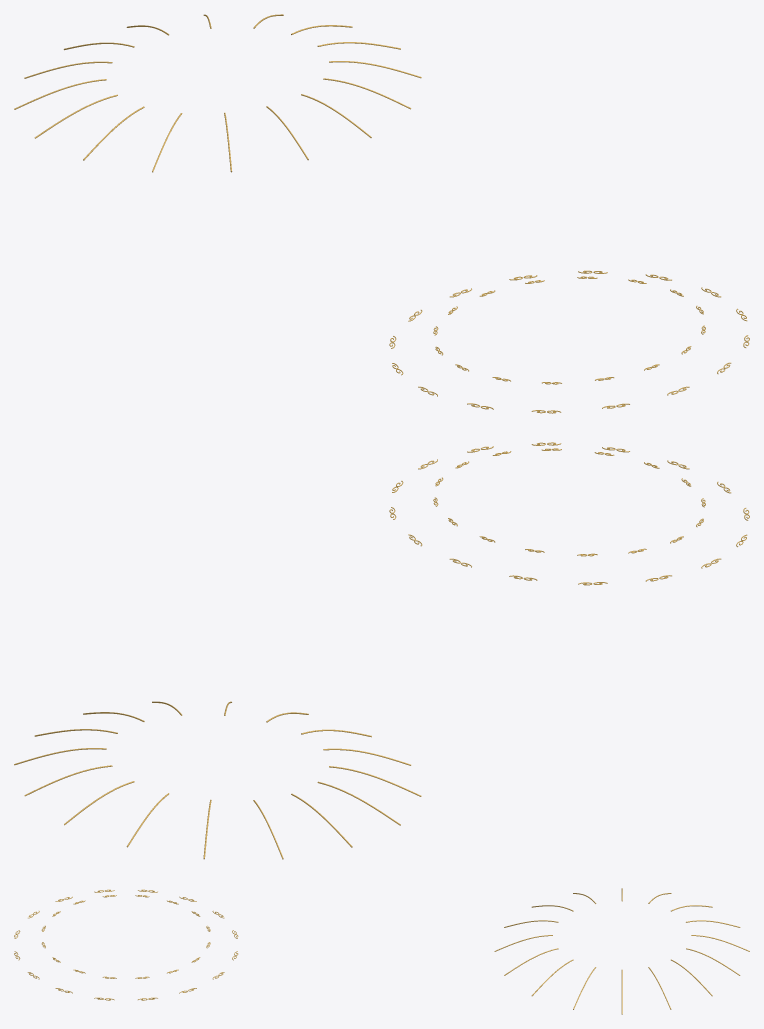
The model's file is KRM_STATIC_003.fbx.
3 renders of one model, top to bottom at view 1: azimuth 30°, elevation 25°; view 2: azimuth 150°, elevation 25°; view 3: azimuth 270°, elevation 25°, orthographic. The views are drawn at different scales.
Parts seen in each view (by area): view 1: KRM_STATIC_003; view 2: KRM_STATIC_003; view 3: KRM_STATIC_003.
Boxes of the visible parts, x1,y1,x2,y2 form: KRM_STATIC_003: [14, 14, 749, 413]; KRM_STATIC_003: [14, 442, 749, 859]; KRM_STATIC_003: [14, 888, 749, 1014].
Bounding box in the file's own units: 1682 × 106 × 4155.
Materials: 1 (1 with a texture image).
